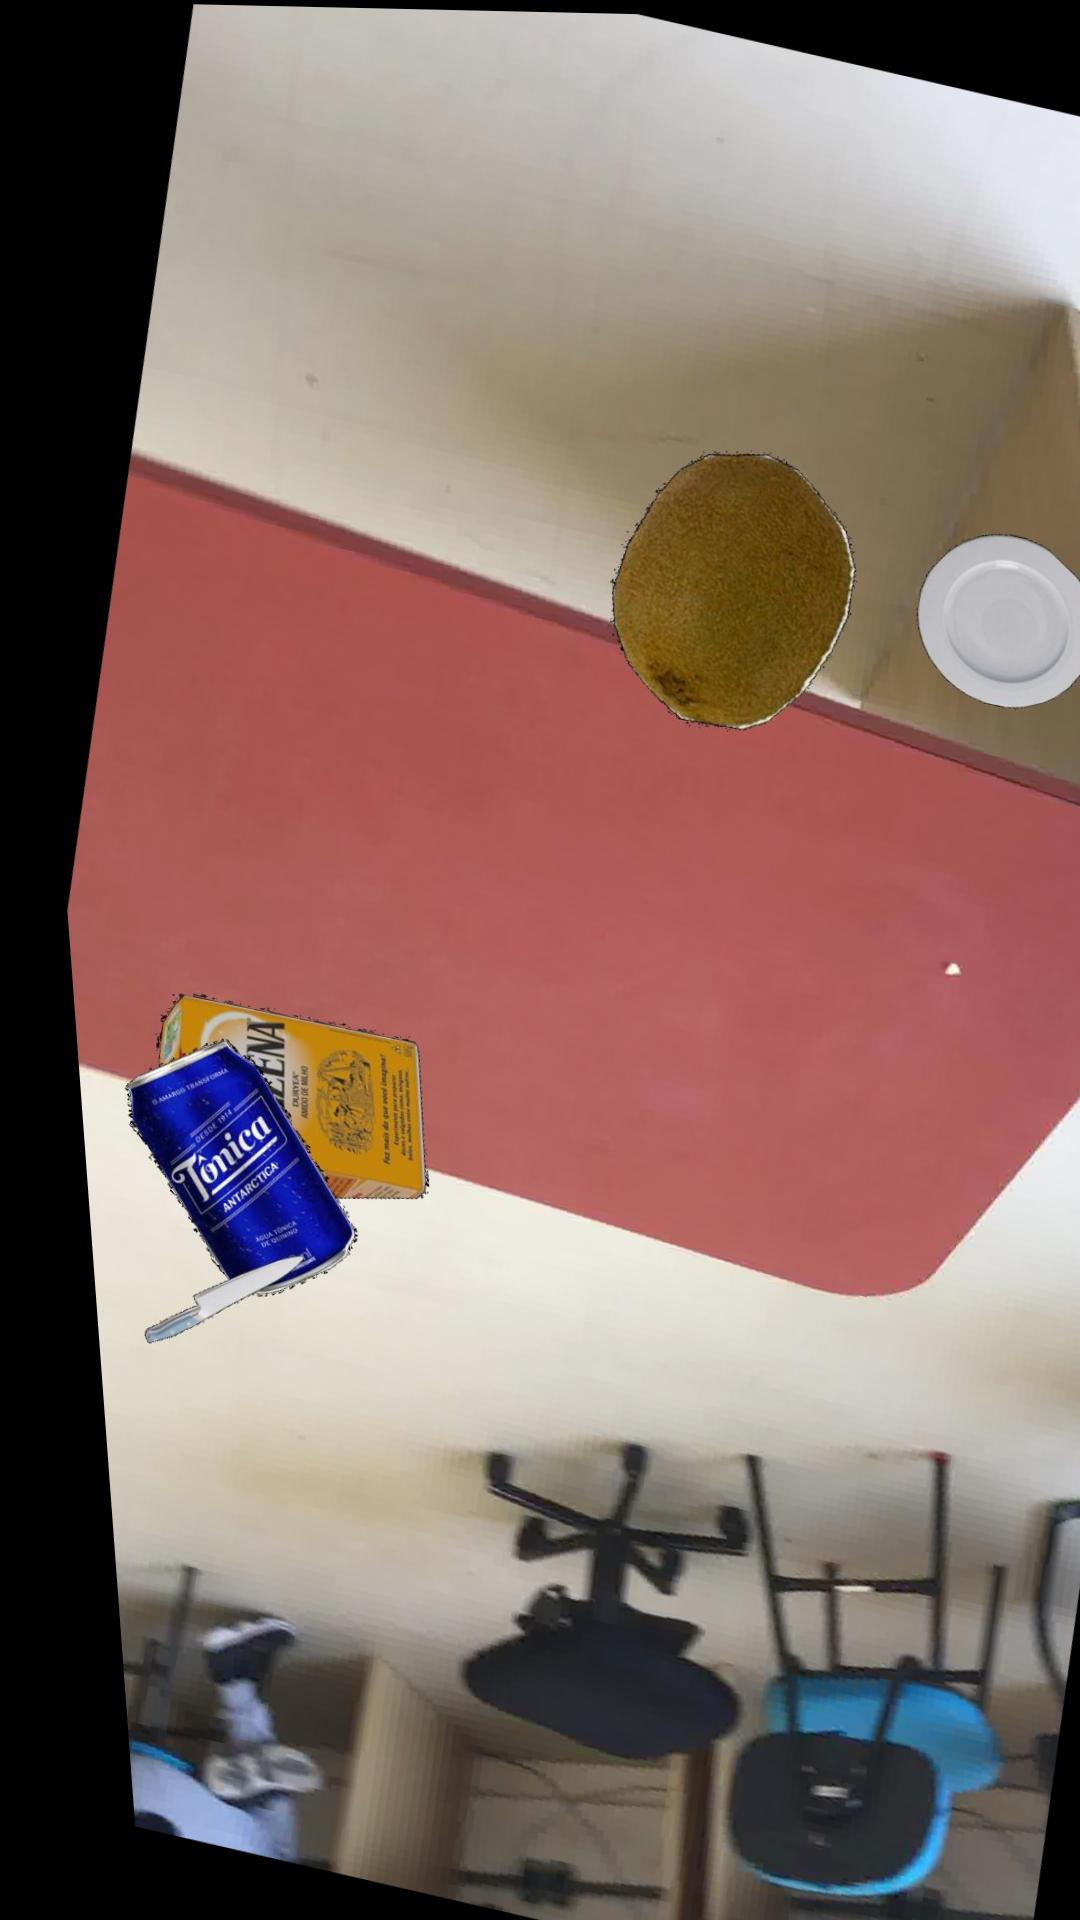kiwi: (599, 450, 844, 727)
knife: (120, 1254, 281, 1344)
plate: (903, 530, 1080, 703)
tonic: (104, 1038, 335, 1296)
